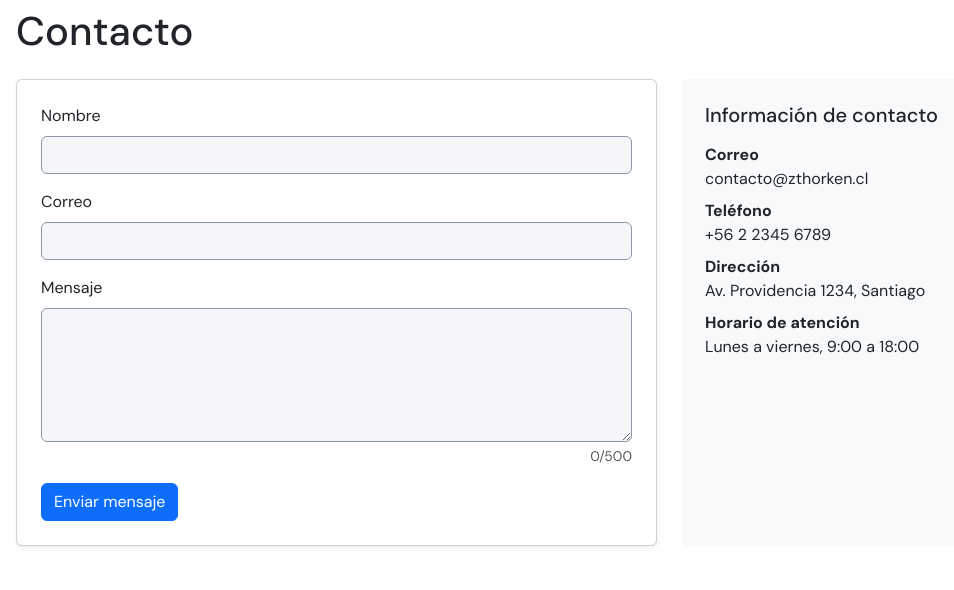
Test: Contacto › valida el formato del correo
Type "Ana" into the field labelled "Nombre" at x=336, y=155, box [41, 136, 632, 174]
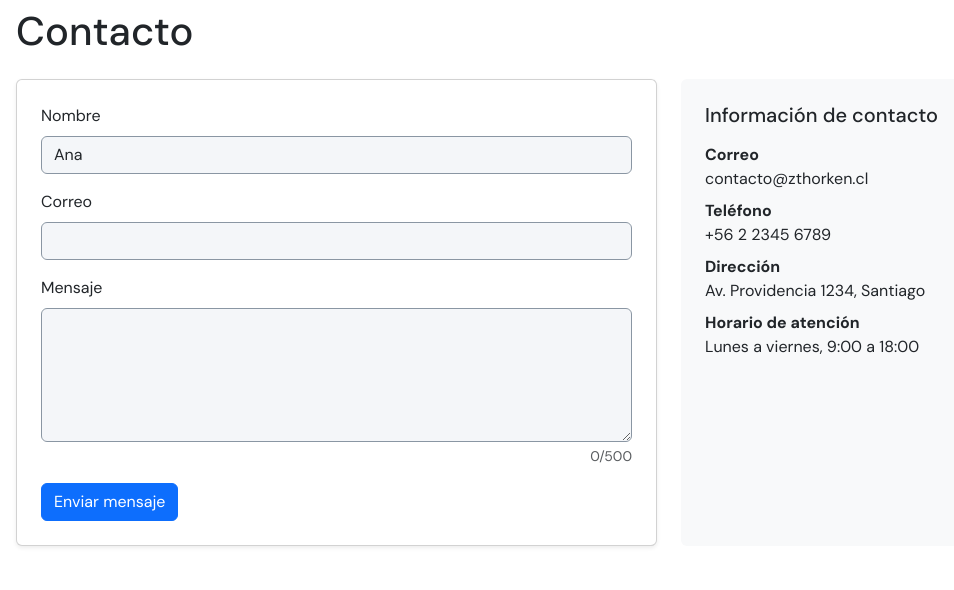
Type "ana@" into the field labelled "Correo" at x=336, y=241, box [41, 222, 632, 260]
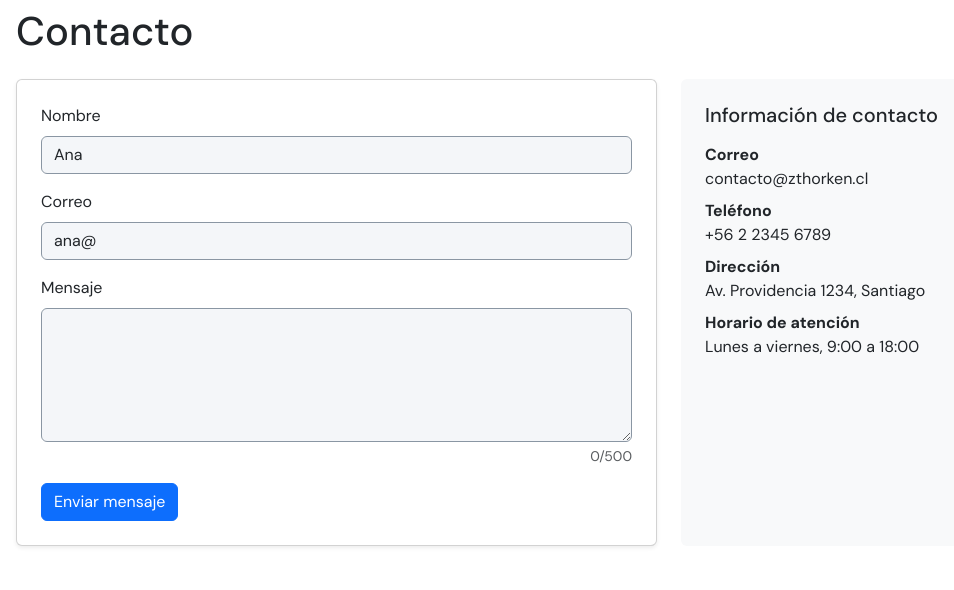
Type "Hola, quiero cotizar un notebook." into the text box labelled "Mensaje" at x=336, y=375, box [41, 308, 632, 442]
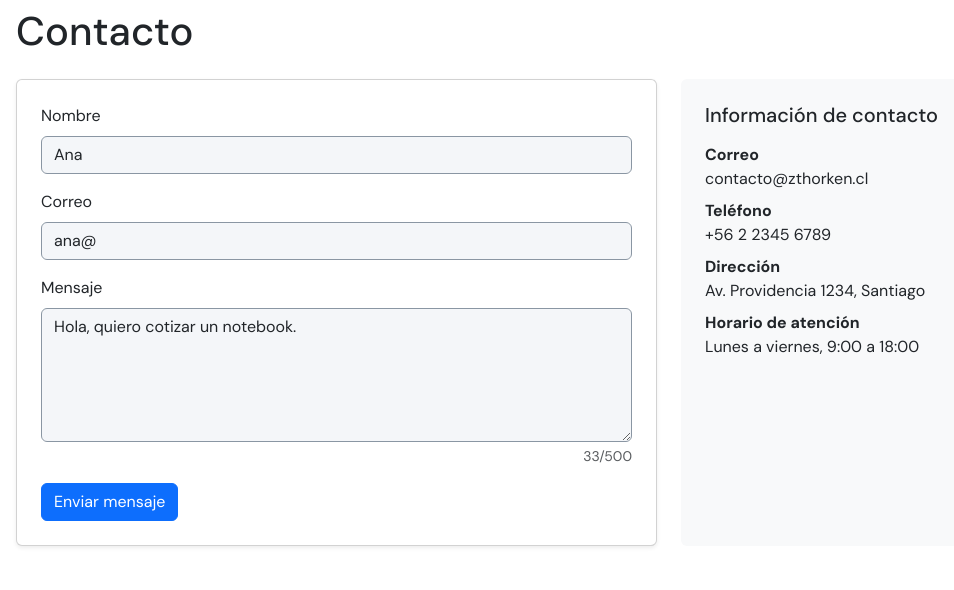
Click the button "Enviar mensaje" at x=110, y=502, box [41, 483, 178, 521]
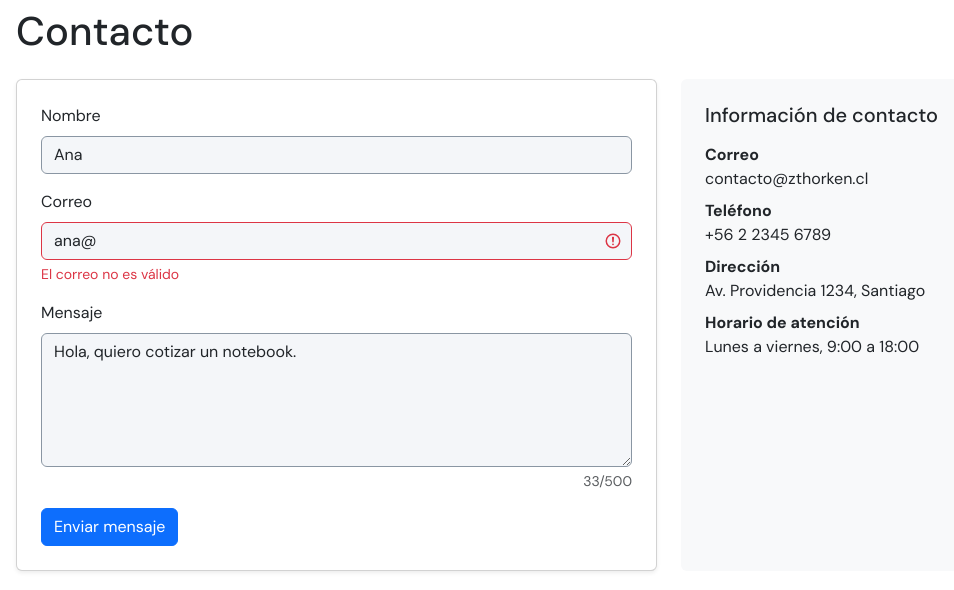
Expected: the text "El correo no es válido" is shown, [41, 265, 179, 283]
